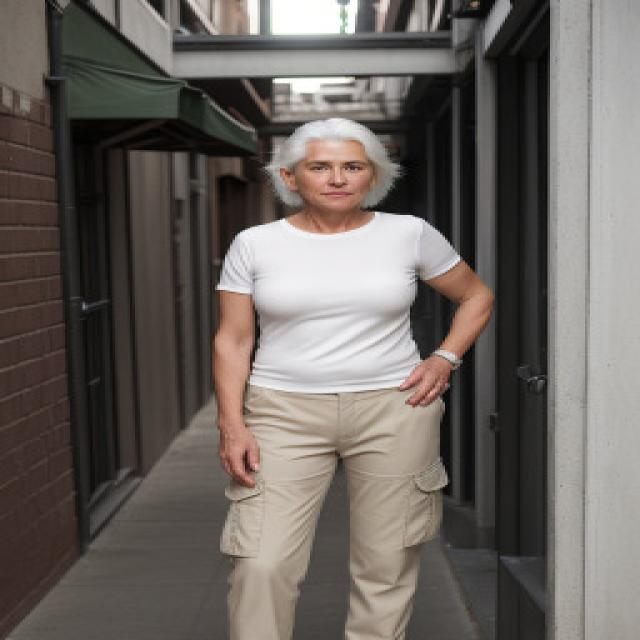Ai human 2: (195, 115, 525, 640)
